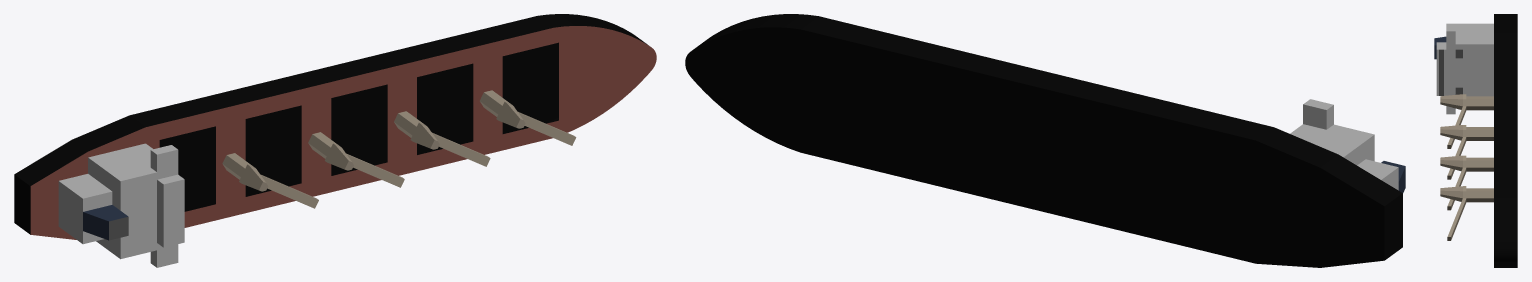
Rendered from bulk_carrier.dae.
3 views of the same model, side by side, from view 1: azimuth 30°, elevation 25°; view 2: azimuth 150°, elevation 25°; view 3: azimuth 270°, elevation 25° (orthographic). The views are drawn at different scales.
Parts seen in each view (by area): view 1: coords_ME_ID99_MA_material_30, coords_ME_ID23_MA_material_9, coords_ME_ID31_MA_material_28, coords_ME_ID79_MA_material_27, coords_ME_ID3_MA_material_27, coords_ME_ID17_MA_material_27, coords_ME_ID11_MA_material_27, coords_ME_ID59_MA_jean_blue, coords_ME_ID107_MA_material; view 2: coords_ME_ID23_MA_material_9, coords_ME_ID31_MA_material_28; view 3: coords_ME_ID23_MA_material_9, coords_ME_ID31_MA_material_28, coords_ME_ID17_MA_material_27, coords_ME_ID3_MA_material_27, coords_ME_ID11_MA_material_27, coords_ME_ID79_MA_material_27, coords_ME_ID93_MA_material, coords_ME_ID59_MA_jean_blue, coords_ME_ID85_MA_material.
Boxes of the visible parts, x1,y1,x2,y2 form: coords_ME_ID99_MA_material_30: (30, 26, 656, 239); coords_ME_ID23_MA_material_9: (14, 14, 647, 234); coords_ME_ID31_MA_material_28: (58, 143, 184, 267); coords_ME_ID79_MA_material_27: (308, 132, 404, 187); coords_ME_ID3_MA_material_27: (394, 111, 490, 166); coords_ME_ID17_MA_material_27: (480, 90, 576, 145); coords_ME_ID11_MA_material_27: (222, 153, 318, 208); coords_ME_ID59_MA_jean_blue: (83, 205, 127, 240); coords_ME_ID107_MA_material: (109, 216, 128, 240); coords_ME_ID23_MA_material_9: (685, 14, 1402, 267); coords_ME_ID31_MA_material_28: (1290, 99, 1398, 190); coords_ME_ID23_MA_material_9: (1494, 14, 1517, 267); coords_ME_ID31_MA_material_28: (1436, 23, 1493, 114); coords_ME_ID17_MA_material_27: (1440, 186, 1493, 240); coords_ME_ID3_MA_material_27: (1440, 155, 1493, 210); coords_ME_ID11_MA_material_27: (1440, 94, 1493, 148); coords_ME_ID79_MA_material_27: (1440, 125, 1493, 179); coords_ME_ID93_MA_material: (1439, 49, 1443, 95); coords_ME_ID59_MA_jean_blue: (1434, 36, 1446, 59); coords_ME_ID85_MA_material: (1455, 49, 1462, 58).
Bounding box in the file's own units: 253 × 43.65 × 39.69.
